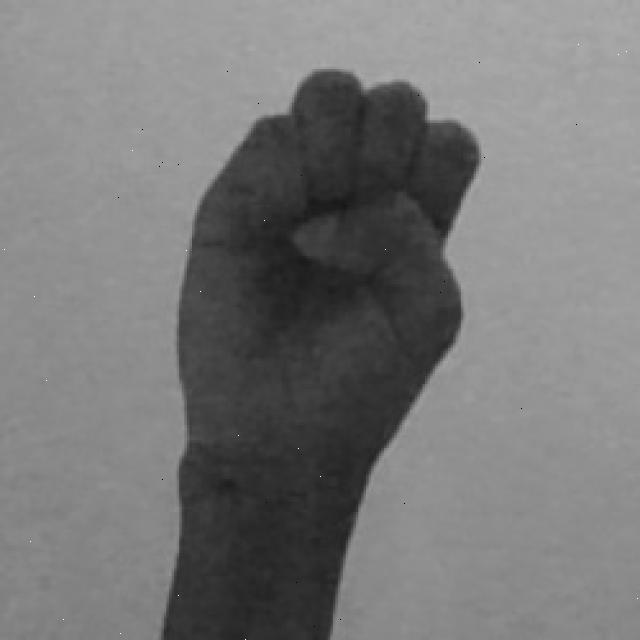S: (150, 60, 485, 640)
